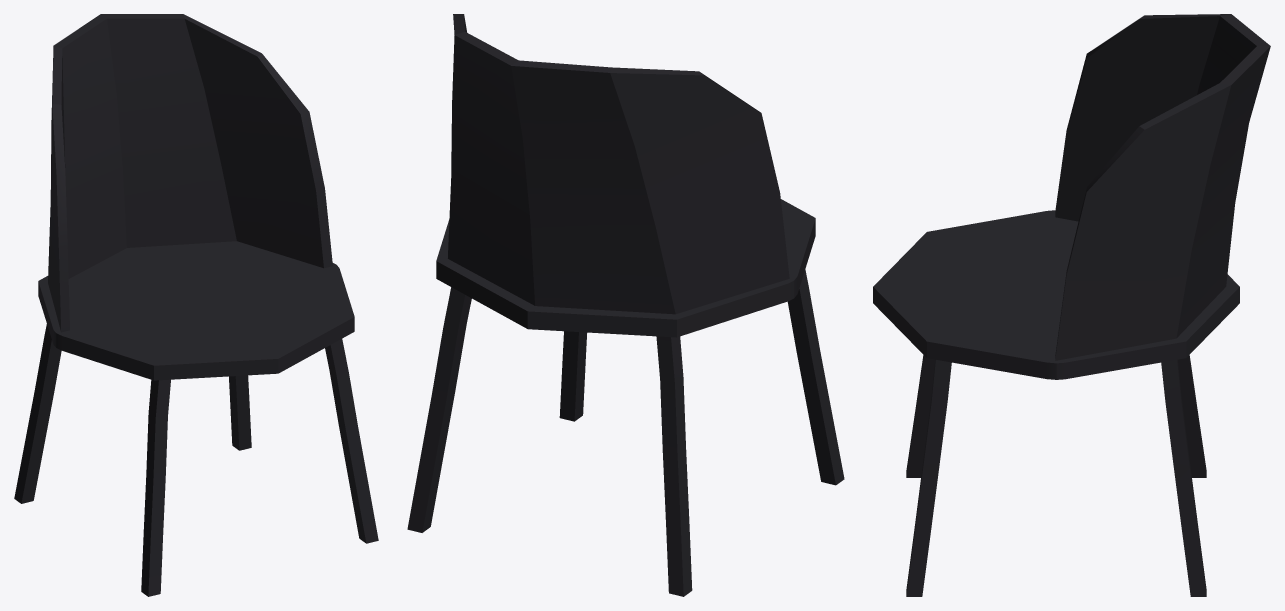
The model's file is hall_chair.fbx.
3 renders of one model, left to right at view 1: azimuth 30°, elevation 25°; view 2: azimuth 150°, elevation 25°; view 3: azimuth 270°, elevation 25°, orthographic. The views are drawn at different scales.
Visible parts, largest first — view 1: hall_chair; view 2: hall_chair; view 3: hall_chair.
Part boxes in pixels (bbox=[...]): hall_chair: bbox=[14, 14, 378, 596]; hall_chair: bbox=[407, 14, 844, 596]; hall_chair: bbox=[873, 14, 1270, 596].
Size of the model in its own units: 0.00416 by 0.00618 by 0.00456.
1 material, 1 textured.
